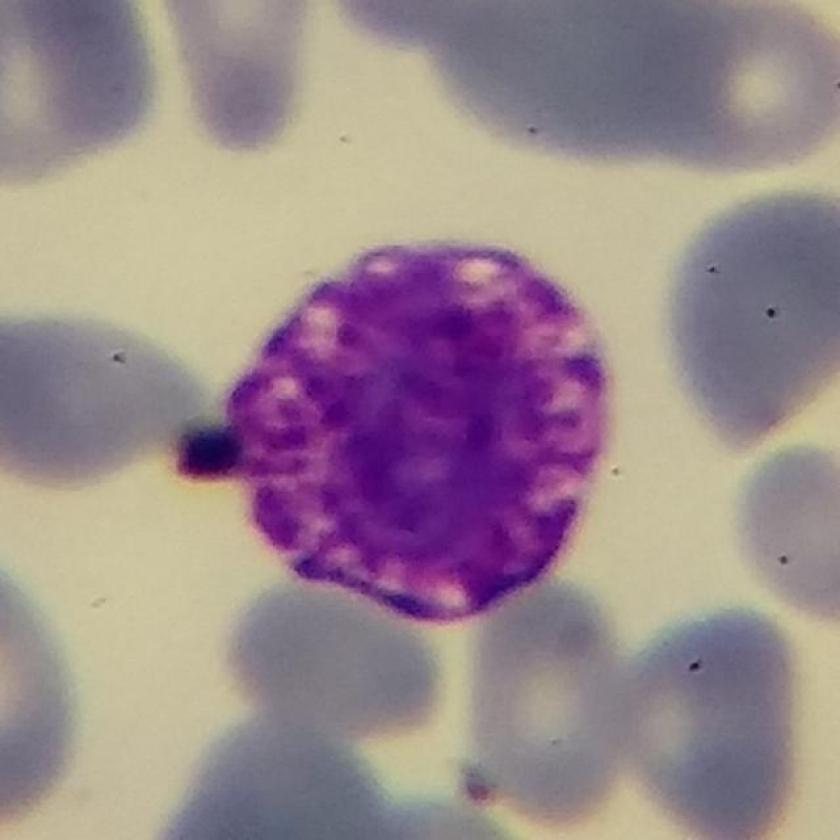basophil: (223, 225, 630, 627)
